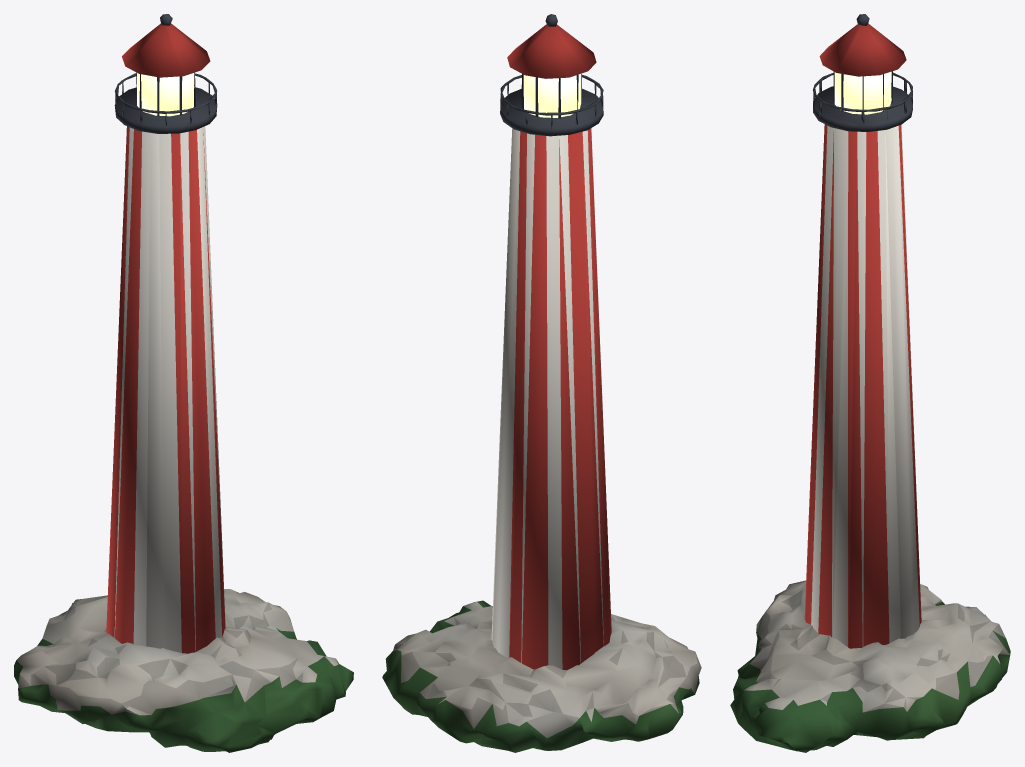
Rendered from shore_lighthouse_lod1.glb.
3 views of the same model, side by side, from view 1: azimuth 30°, elevation 25°; view 2: azimuth 150°, elevation 25°; view 3: azimuth 270°, elevation 25° (orthographic). The views are drawn at different scales.
Parts seen in each view (by area): view 1: shore_lighthouse.001; view 2: shore_lighthouse.001; view 3: shore_lighthouse.001.
Part boxes in pixels (box(x1,y1,x2,y2)): shore_lighthouse.001: box(14, 14, 353, 752); shore_lighthouse.001: box(382, 14, 701, 752); shore_lighthouse.001: box(730, 14, 1010, 752).
Bounding box in the file's own units: 59.1 × 141 × 51.56.
